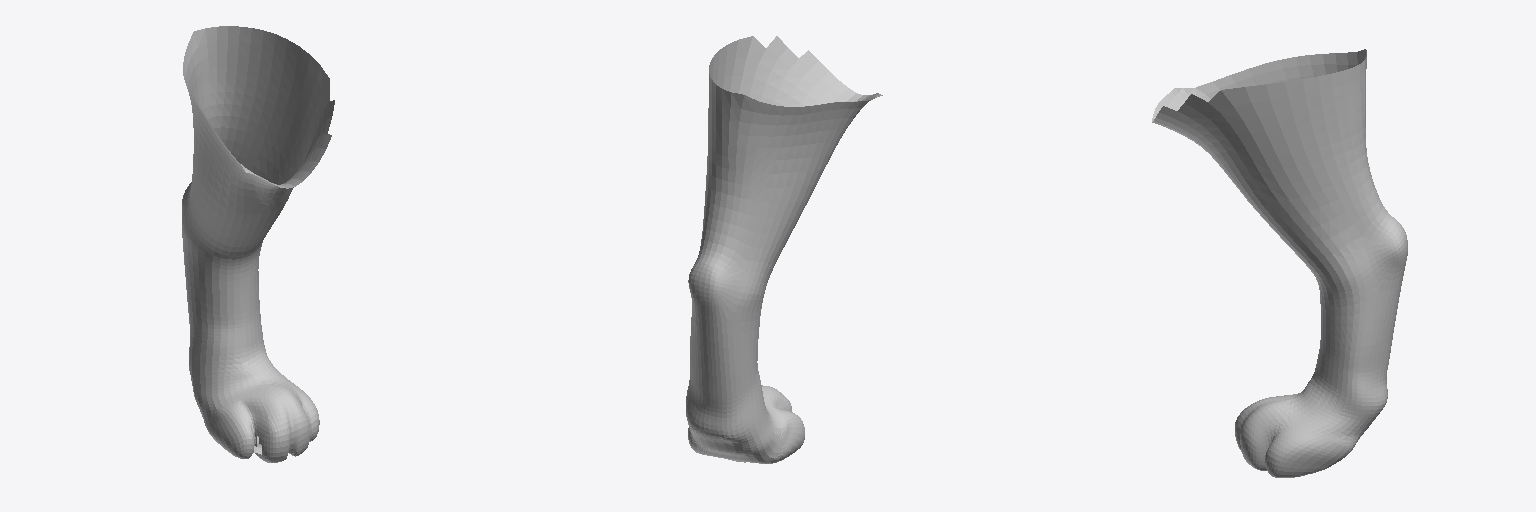
Rendered from p_d_derecha.obj.
3 views of the same model, side by side, from view 1: azimuth 30°, elevation 25°; view 2: azimuth 150°, elevation 25°; view 3: azimuth 270°, elevation 25° (orthographic).
Parts seen in each view (by area): view 1: p_t_derecha; view 2: p_t_derecha; view 3: p_t_derecha.
Part boxes in pixels (x1,y1,x2,y2): p_t_derecha: (182,26,334,462); p_t_derecha: (686,36,882,463); p_t_derecha: (1152,49,1407,477).
Size of the model in its own units: 5.26 by 15.89 by 9.28.